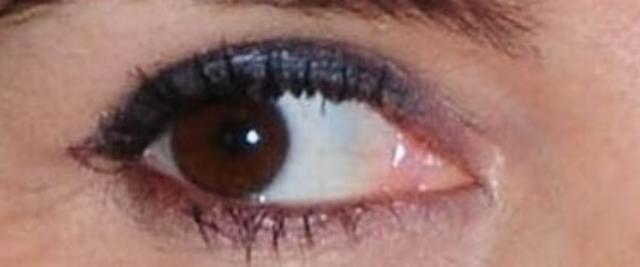eye: (172, 82, 292, 200)
